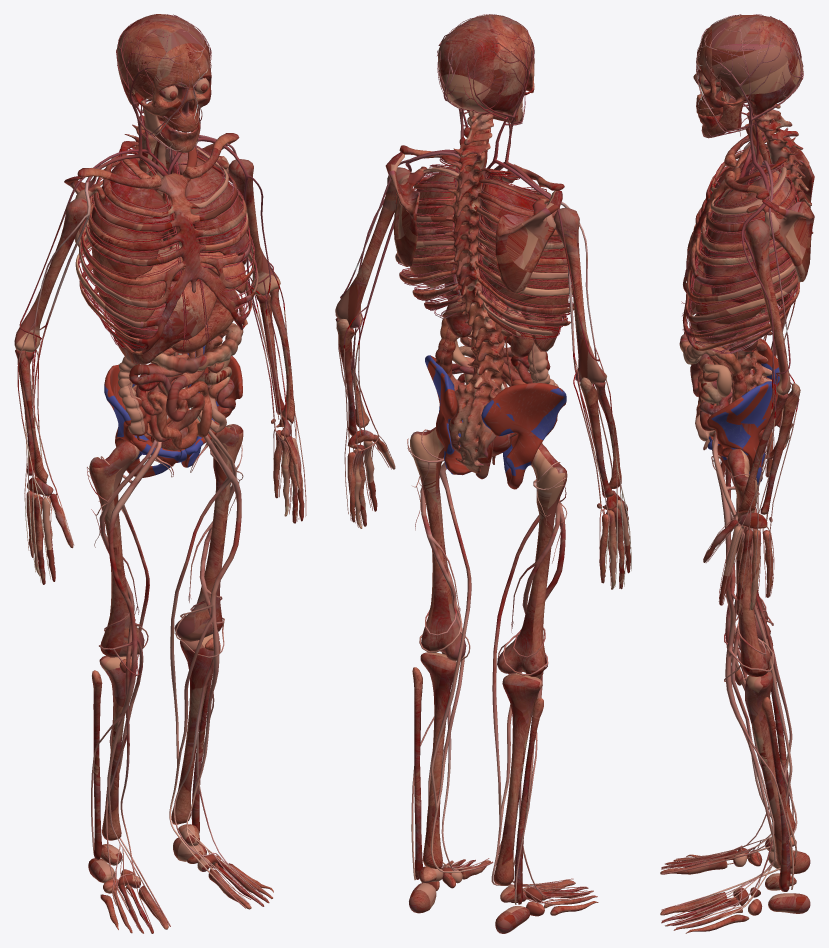
3 views of the same model, side by side, from view 1: azimuth 30°, elevation 25°; view 2: azimuth 150°, elevation 25°; view 3: azimuth 270°, elevation 25° (orthographic). The views are drawn at different scales.
Parts seen in each view (by area): view 1: Legs, VenasMesh, Hands, Ribcage, ArteriasMesh, DigestiveSystem, Skull, HumanLungs, Liver, Pelvis, Diafragma, Spine; view 2: Legs, Hands, VenasMesh, Spine, ArteriasMesh, Skull, Ribcage, Pelvis, HumanLungs, DigestiveSystem, Urinary_System, Liver (+1 smaller); view 3: Legs, VenasMesh, Hands, Skull, ArteriasMesh, Ribcage, DigestiveSystem, HumanLungs, Pelvis, Spine, Diafragma.
Part boxes in pixels (x1,y1,x2,y2): Legs: (88, 424, 273, 933); VenasMesh: (17, 14, 306, 931); Hands: (14, 133, 304, 584); Ribcage: (75, 141, 258, 354); ArteriasMesh: (19, 14, 303, 932); DigestiveSystem: (118, 119, 243, 462); Skull: (117, 14, 211, 152); HumanLungs: (89, 140, 248, 306); Liver: (114, 276, 217, 365); Pelvis: (104, 345, 242, 477); Diafragma: (99, 244, 246, 329); Spine: (124, 98, 187, 441); Legs: (409, 427, 598, 933); Hands: (335, 145, 630, 589); VenasMesh: (338, 23, 631, 904); Spine: (444, 110, 504, 473); ArteriasMesh: (340, 14, 628, 900); Skull: (438, 14, 534, 123); Ribcage: (395, 155, 574, 335); Pelvis: (425, 355, 566, 489); HumanLungs: (410, 128, 568, 303); DigestiveSystem: (435, 183, 558, 479); Urinary_System: (445, 293, 533, 464); Liver: (521, 311, 562, 351); Legs: (660, 449, 810, 933); VenasMesh: (661, 16, 801, 925); Hands: (703, 130, 814, 615); Skull: (693, 15, 802, 138); ArteriasMesh: (662, 14, 803, 927); Ribcage: (682, 139, 800, 350); DigestiveSystem: (679, 112, 770, 466); HumanLungs: (703, 123, 796, 307); Pelvis: (707, 338, 787, 485); Spine: (729, 104, 813, 458); Diafragma: (695, 231, 763, 325).
Bounding box in the file's own units: 54.88 × 170 × 27.09.
3 materials, 3 textured.
